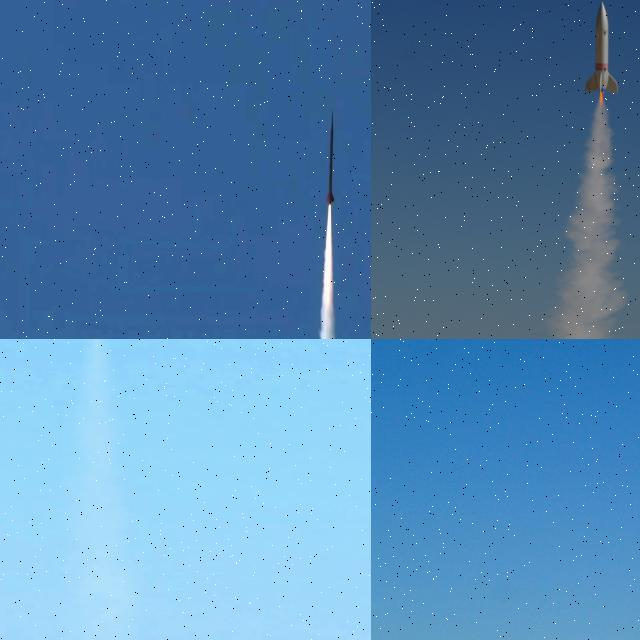Rocket: (584, 1, 620, 95), (325, 108, 335, 206)
